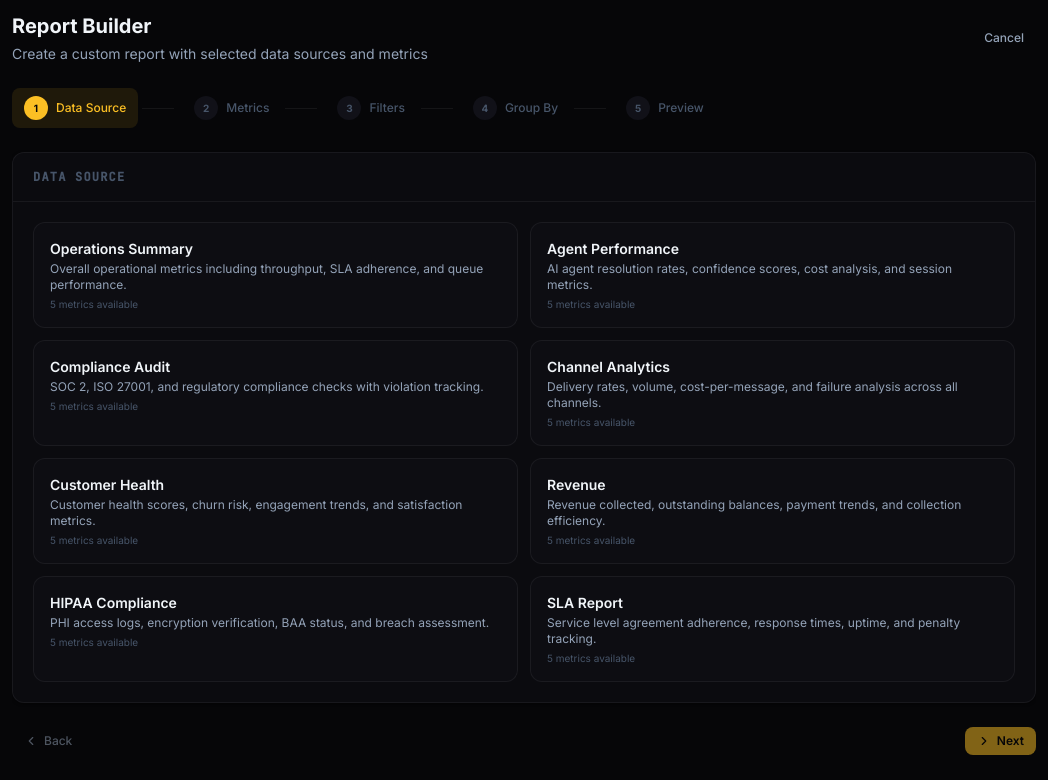
ReportBuilder › navigates to Group By step
Click the text "Operations Summary" at (122, 248), box [50,240,193,257]
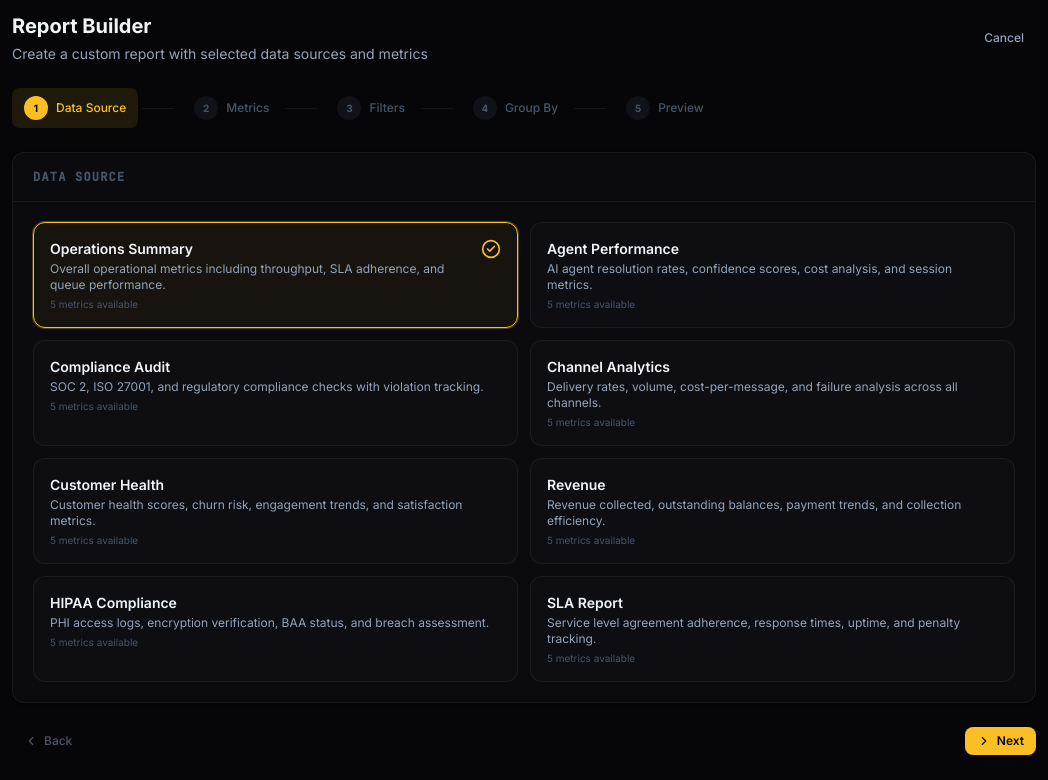
Click the button "Next" at (1000, 741), box [965,727,1036,755]
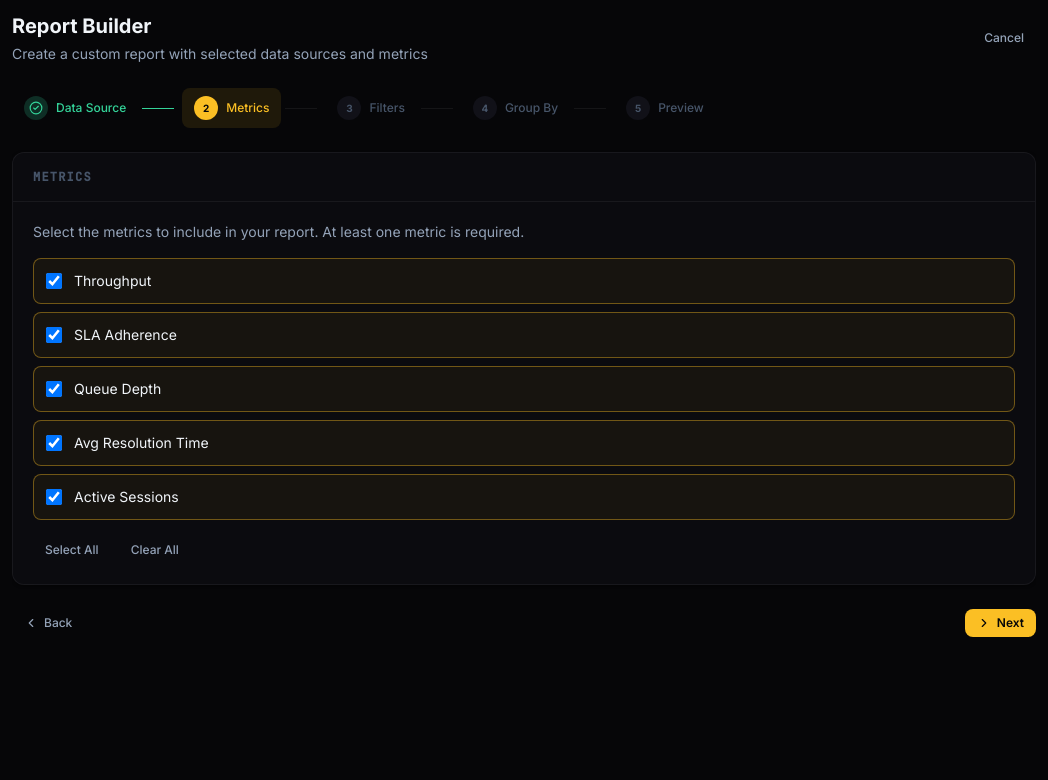
Click the button "Next" at (1000, 623), box [965,609,1036,637]
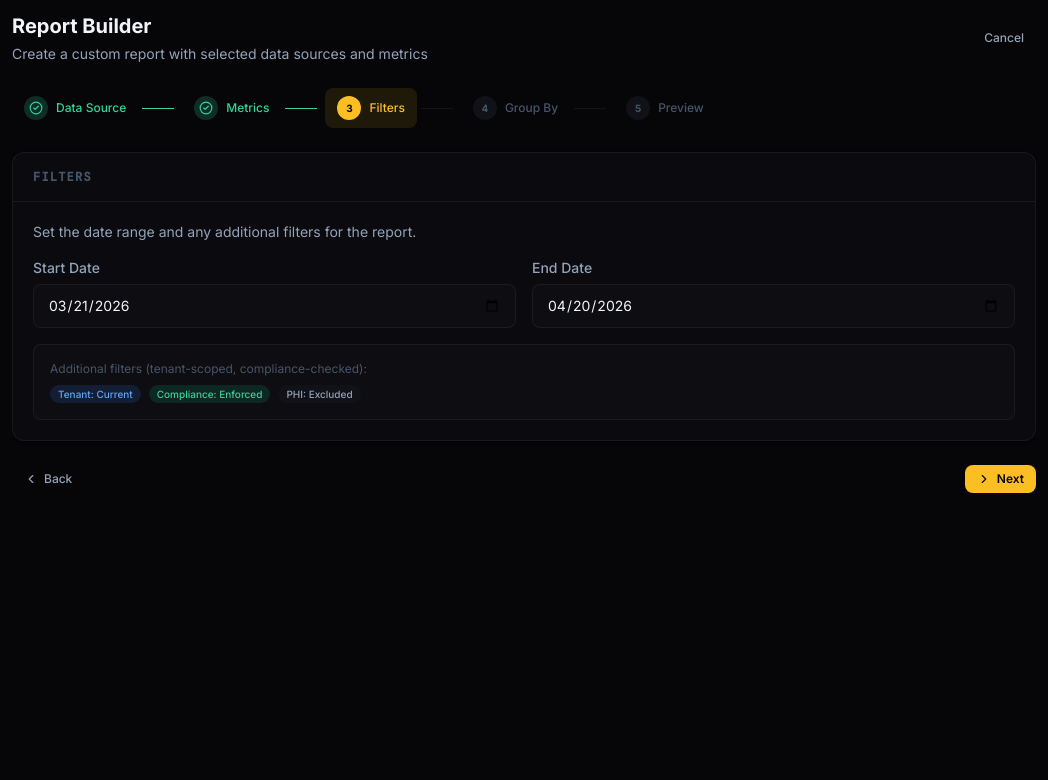
Click the button "Next" at (1000, 479), box [965,465,1036,493]
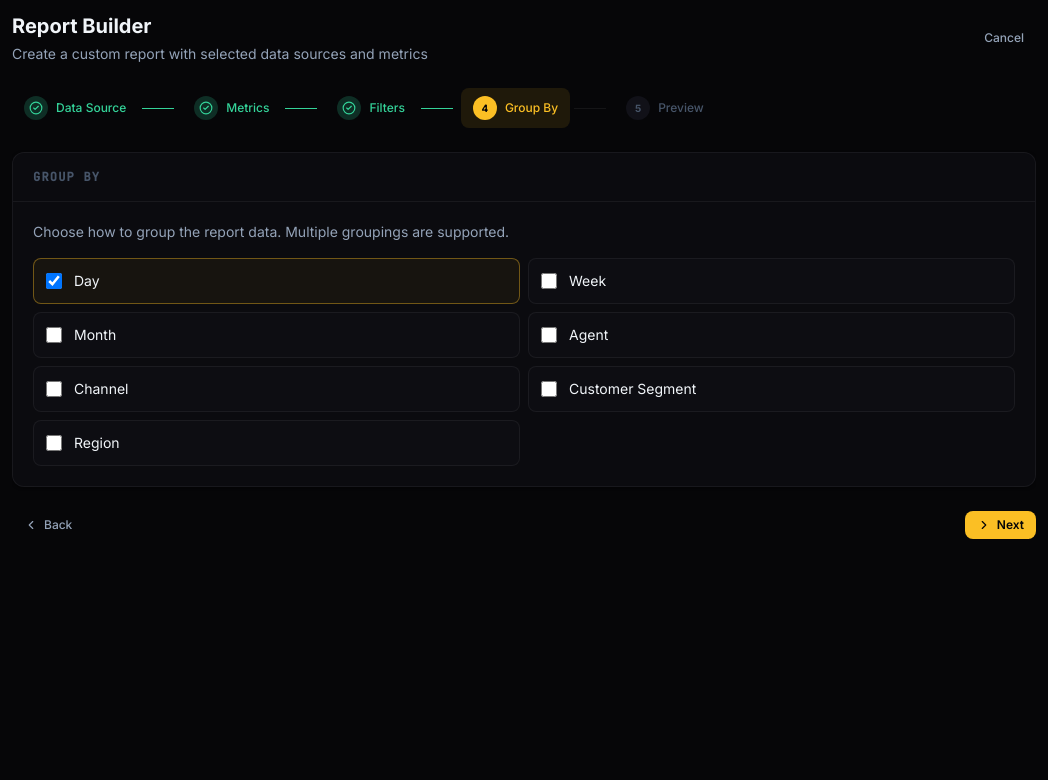
Now the text "Choose how to group the report data. Multiple groupings are supported." is shown, box [33,223,509,240]
